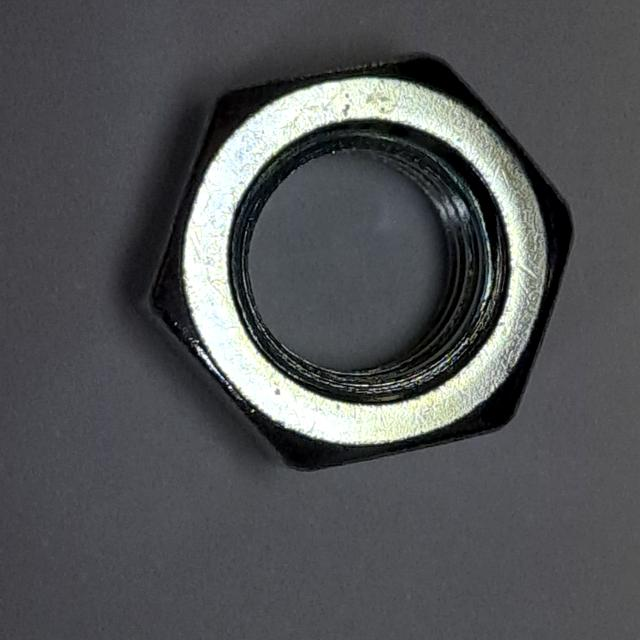Excellent: (117, 32, 586, 488)
